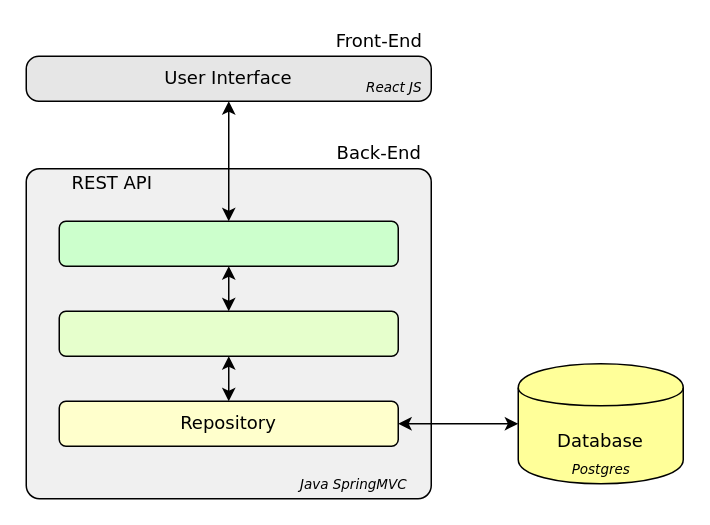
This 710x525 diagram has some shape labels left out. The centre of each missing label's shape, as x and y in pixels:
"Controller" belongs at (x=228, y=243).
"Service" belongs at (x=228, y=333).
